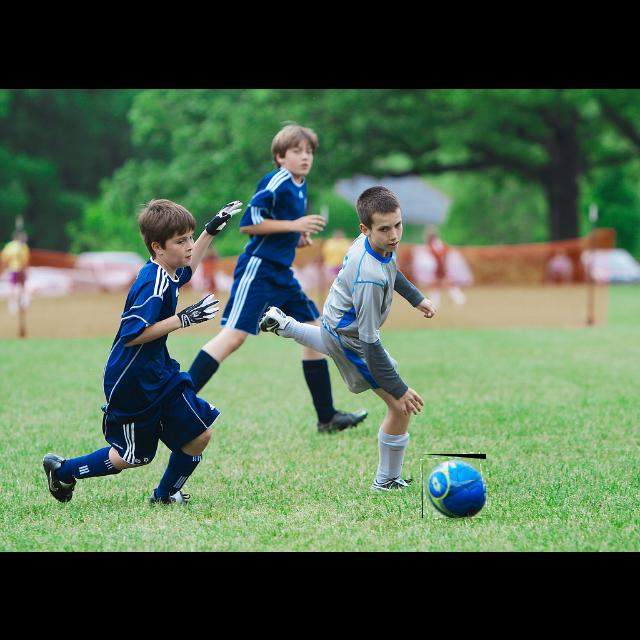Football: (422, 454, 486, 518)
